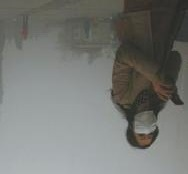person: (109, 1, 187, 148), (20, 14, 28, 41)
